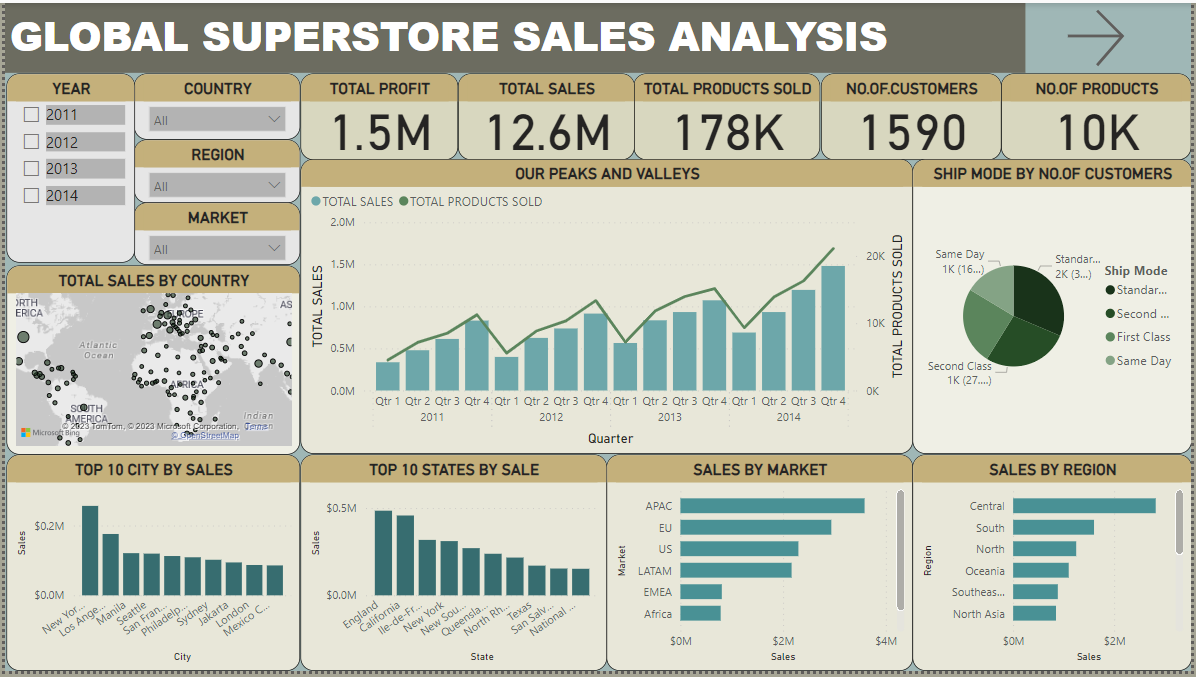

Layout of this report page (visuals, bound fields, positions):
{"tool":"powerbi","page":{"name":"Slicers&Charts","canvas":[1280,720],"ordinal":0},"visuals":[{"type":"slicer","title":"COUNTRY","fields":{"Values":["Orders.Country"]},"box":[138.5,75.4,179.6,71.3],"z":0},{"type":"slicer","title":"REGION","fields":{"Values":["Orders.Region"]},"box":[139.8,146.7,179.6,68.6],"z":1000},{"type":"slicer","title":"MARKET","fields":{"Values":["Orders.Market"]},"box":[138.5,215.3,179.6,67.2],"z":2000},{"type":"card","title":"NO.OF PRODUCTS","fields":{"Values":["Orders.NO.OF PRODUCTS"]},"box":[1074.9,75.4,205.7,93.2],"z":3000},{"type":"card","title":"NO.OF.CUSTOMERS","fields":{"Values":["Orders.NO.OF.CUSTOMERS"]},"box":[880.2,75.4,194.7,93.2],"z":4000},{"type":"card","title":"TOTAL PRODUCTS SOLD","fields":{"Values":["Orders.TOTAL PRODUCTS SOLD"]},"box":[678.7,75.4,201.5,93.2],"z":5000},{"type":"card","title":"TOTAL PROFIT","fields":{"Values":["Orders.TOTAL PROFIT"]},"box":[318.1,75.4,170,93.2],"z":6000},{"type":"card","title":"TOTAL SALES","fields":{"Values":["Orders.TOTAL SALES"]},"box":[488.1,75.4,190.6,93.2],"z":7000},{"type":"pieChart","title":"SHIP MODE BY NO.OF CUSTOMERS","fields":{"Category":["Orders.Ship Mode"],"Y":["Orders.NO.OF.CUSTOMERS"]},"box":[978.9,168.6,301.6,318.1],"z":8000},{"type":"columnChart","title":"TOP 10 CITY BY SALES","fields":{"Category":["Orders.City"],"Y":["Sum(Orders.Sales)"]},"box":[1.4,486.7,316.7,233.1],"z":9000},{"type":"barChart","title":"SALES BY MARKET","fields":{"Y":["Sum(Orders.Sales)"],"Category":["Orders.Market"]},"box":[648.5,486.7,330.4,233.1],"z":10000},{"type":"columnChart","title":"TOP 10 STATES BY SALE","fields":{"Y":["Sum(Orders.Sales)"],"Category":["Orders.State"]},"box":[318.1,486.7,330.4,233.1],"z":11000},{"type":"barChart","title":"SALES BY REGION","fields":{"Y":["Sum(Orders.Sales)"],"Category":["Orders.Region"]},"box":[978.9,486.7,301.6,233.1],"z":12000},{"type":"lineClusteredColumnComboChart","title":"OUR PEAKS AND VALLEYS","fields":{"Y":["Orders.TOTAL SALES"],"Category":["Orders.Order Date.Variation.Date Hierarchy.Year","Orders.Order Date.Variation.Date Hierarchy.Quarter","Orders.Order Date.Variation.Date Hierarchy.Month","Orders.Order Date.Variation.Date Hierarchy.Day"],"Y2":["Orders.TOTAL PRODUCTS SOLD"]},"box":[318.1,168.6,660.8,318.1],"z":13000},{"type":"slicer","title":"YEAR","fields":{"Values":["Orders.Order Date.Variation.Date Hierarchy.Year"]},"box":[1.4,75.4,138.5,204.3],"z":14000},{"type":"map","title":"TOTAL SALES BY COUNTRY","fields":{"Category":["Orders.Country"],"Size":["Orders.TOTAL SALES"]},"box":[1.4,282.4,316.7,204.3],"z":15000},{"type":"textbox","box":[0,0,1100.9,75.4],"z":16000},{"type":"actionButton","box":[1100.9,0,176.9,75.4],"z":17000}]}

Visuals, with their boxes in screenshot pixels (x1, y1, x2, y2), scaled from the page's 1280x720 canvas onto the 1196x677 screenshot:
"COUNTRY" slicer: locate(129, 71, 297, 138)
"REGION" slicer: locate(131, 138, 298, 202)
"MARKET" slicer: locate(129, 202, 297, 266)
"NO.OF PRODUCTS" card: locate(1004, 71, 1195, 159)
"NO.OF.CUSTOMERS" card: locate(822, 71, 1004, 159)
"TOTAL PRODUCTS SOLD" card: locate(634, 71, 822, 159)
"TOTAL PROFIT" card: locate(297, 71, 456, 159)
"TOTAL SALES" card: locate(456, 71, 634, 159)
"SHIP MODE BY NO.OF CUSTOMERS" pieChart: locate(915, 159, 1195, 458)
"TOP 10 CITY BY SALES" columnChart: locate(1, 458, 297, 676)
"SALES BY MARKET" barChart: locate(606, 458, 915, 676)
"TOP 10 STATES BY SALE" columnChart: locate(297, 458, 606, 676)
"SALES BY REGION" barChart: locate(915, 458, 1195, 676)
"OUR PEAKS AND VALLEYS" lineClusteredColumnComboChart: locate(297, 159, 915, 458)
"YEAR" slicer: locate(1, 71, 131, 263)
"TOTAL SALES BY COUNTRY" map: locate(1, 266, 297, 458)
textbox: locate(0, 0, 1029, 71)
actionButton: locate(1029, 0, 1194, 71)
